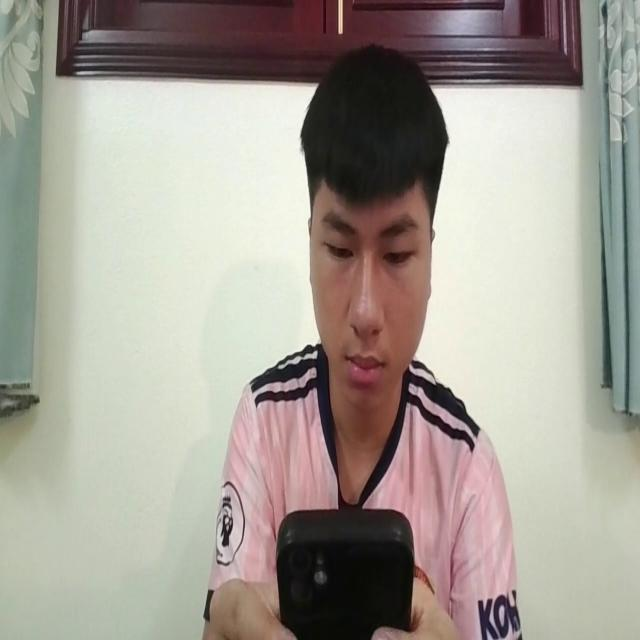phone: (274, 508, 414, 640)
student: (204, 53, 520, 640)
